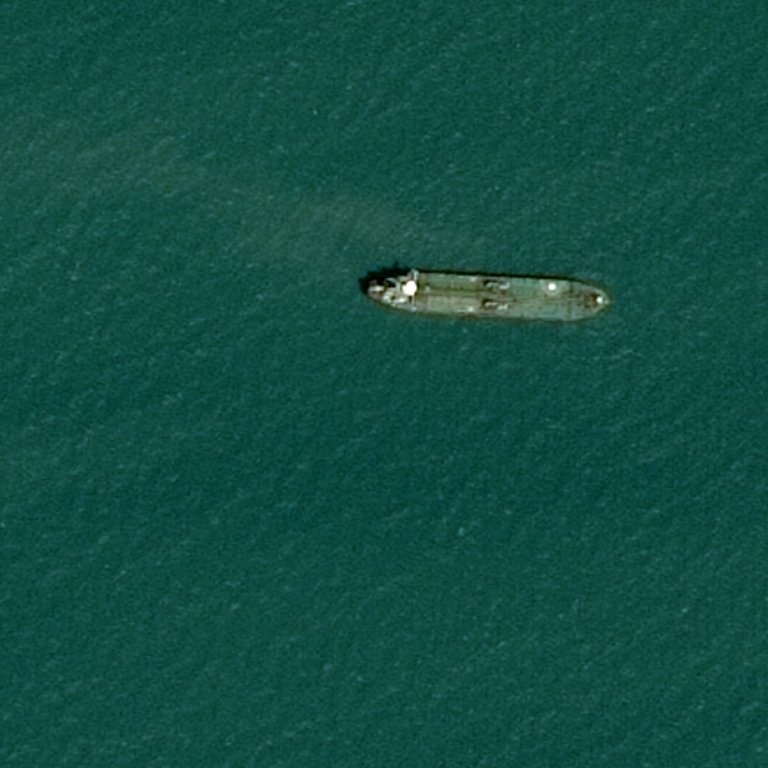ship: (364, 253, 611, 325)
